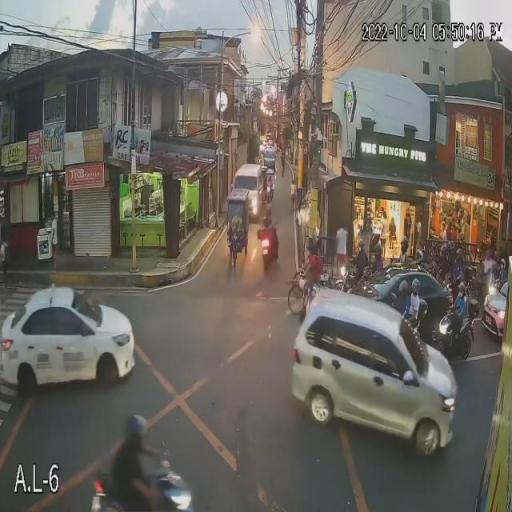helmet: (123, 414, 147, 437), (396, 234, 413, 256), (411, 248, 425, 265), (352, 240, 366, 254), (373, 246, 389, 258), (497, 256, 508, 272), (411, 278, 421, 292), (454, 246, 464, 260), (394, 281, 404, 294), (439, 241, 447, 257), (456, 279, 466, 290), (264, 206, 274, 216)
motorcycle: (90, 458, 194, 511), (432, 300, 474, 360), (394, 296, 428, 337), (257, 225, 280, 271)
rider: (109, 414, 174, 512), (257, 204, 278, 262), (400, 276, 424, 326), (446, 276, 470, 326)
